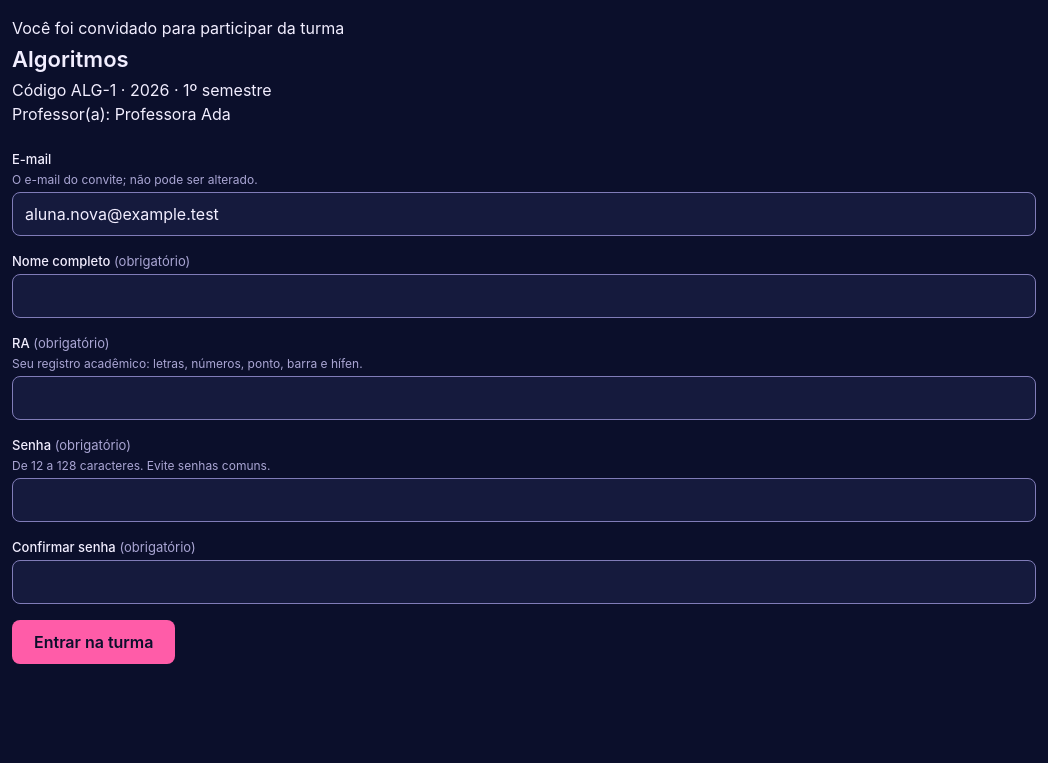
Test: 003/US3-1 003/US3-2 003/US3-4 003/US3-5 ClassInvitationPage — aluno novo (FR-030–FR-036) › RA_TAKEN aparece junto ao campo
Check: the heading "Algoritmos" is shown, box top-left (12, 46), bottom-right (129, 72)
Type "Aluna Nova" into the field labelled "Nome completo (obrigatório)" at x=524, y=296, box top-left (12, 274), bottom-right (1036, 318)
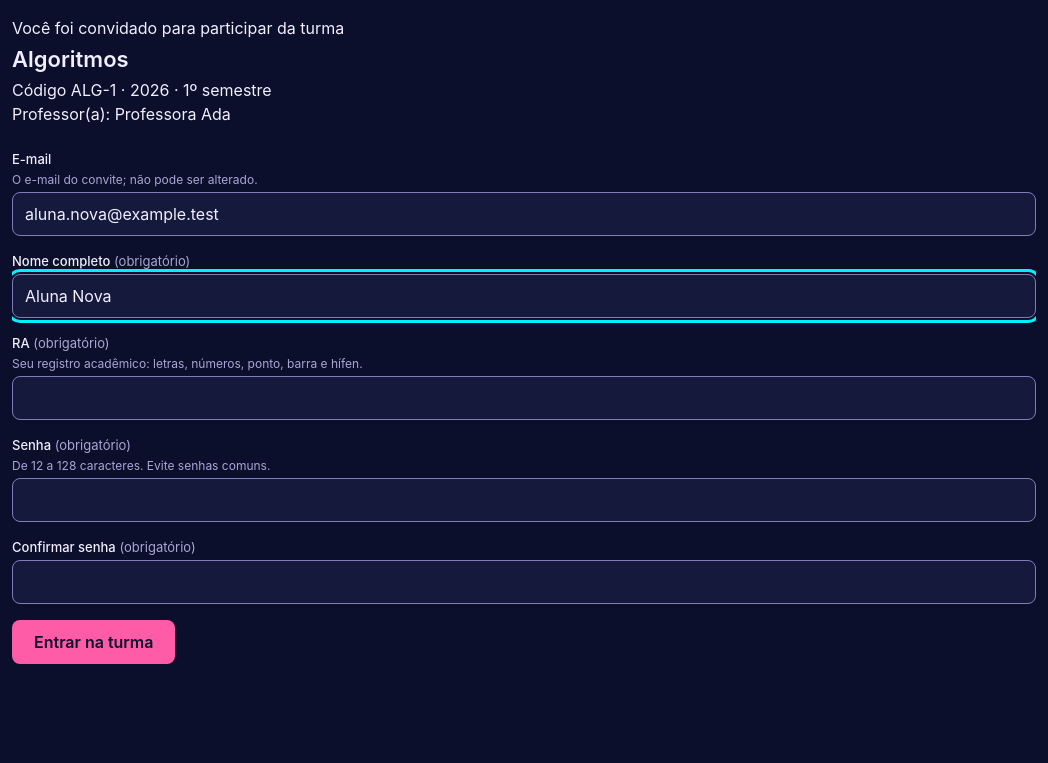
Type "RA-2026.001" into the field labelled "RA (obrigatório)" at x=524, y=398, box top-left (12, 376), bottom-right (1036, 420)
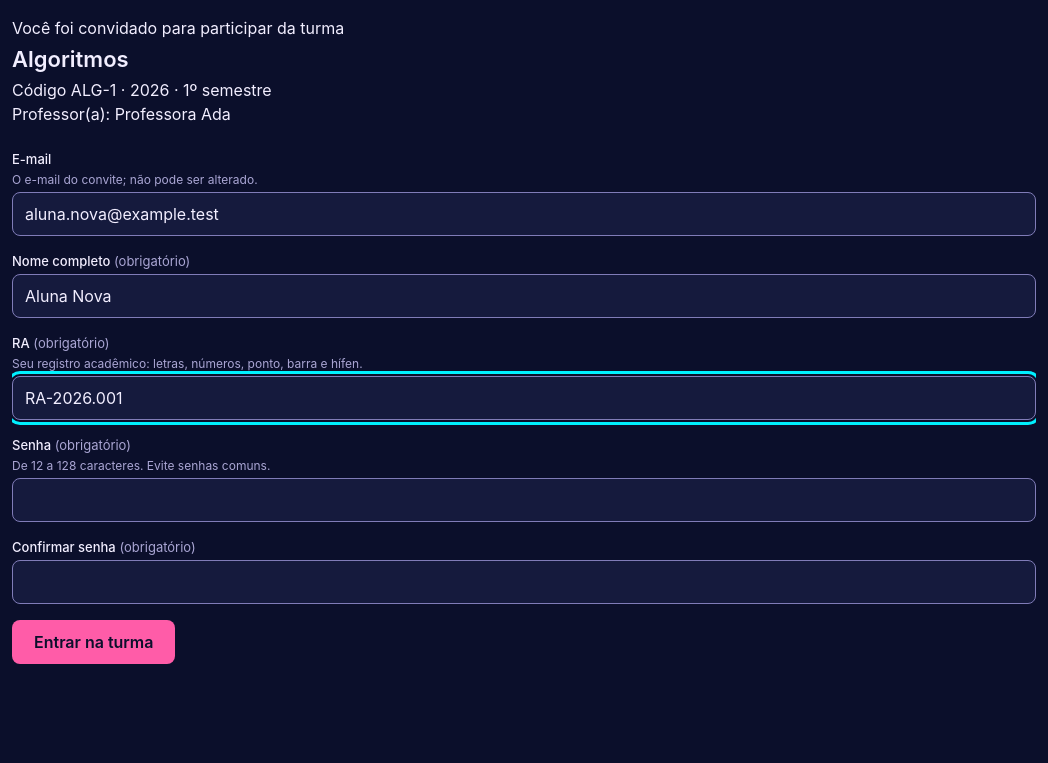
Type "girassol-azul-de-outono" into the password field labelled "Senha (obrigatório)" at x=524, y=500, box top-left (12, 478), bottom-right (1036, 522)
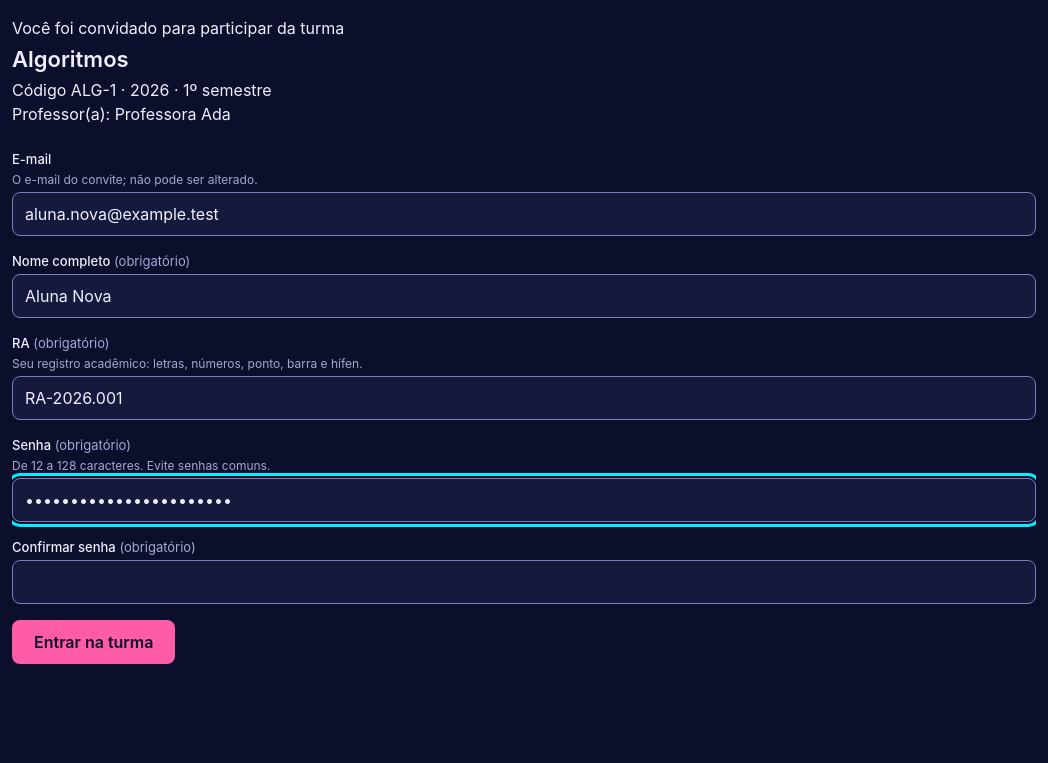
Type "girassol-azul-de-outono" into the password field labelled "Confirmar senha (obrigatório)" at x=524, y=582, box top-left (12, 560), bottom-right (1036, 604)
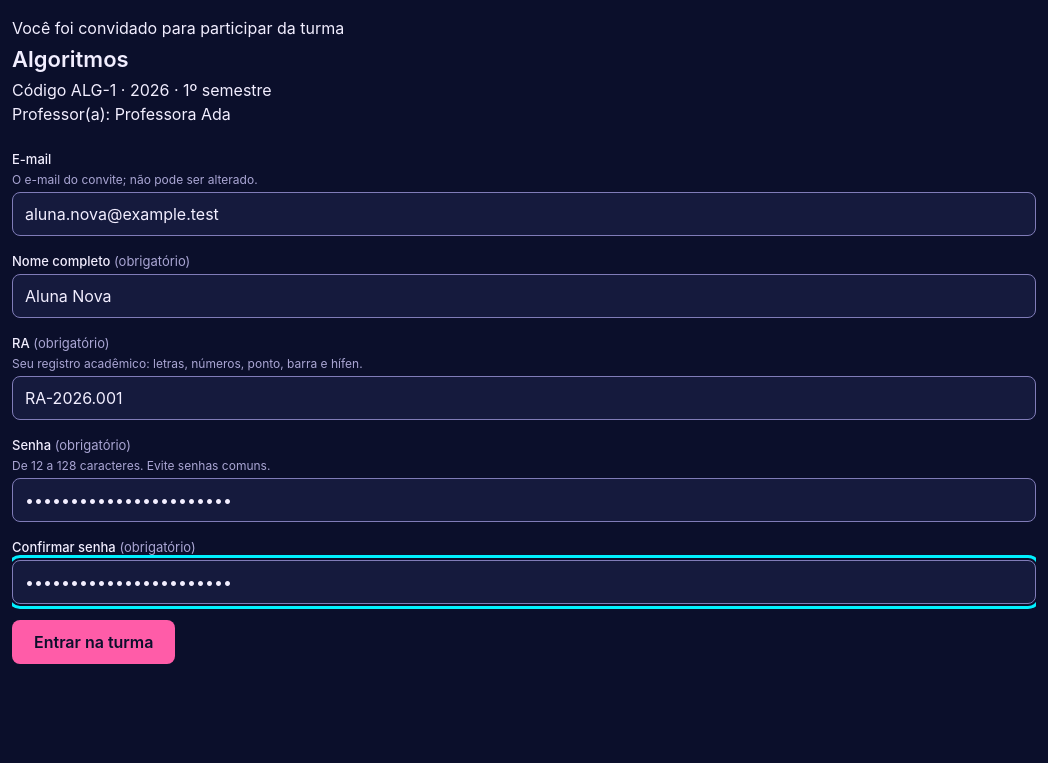
Click the button "Entrar na turma" at x=94, y=642, box top-left (12, 620), bottom-right (176, 664)
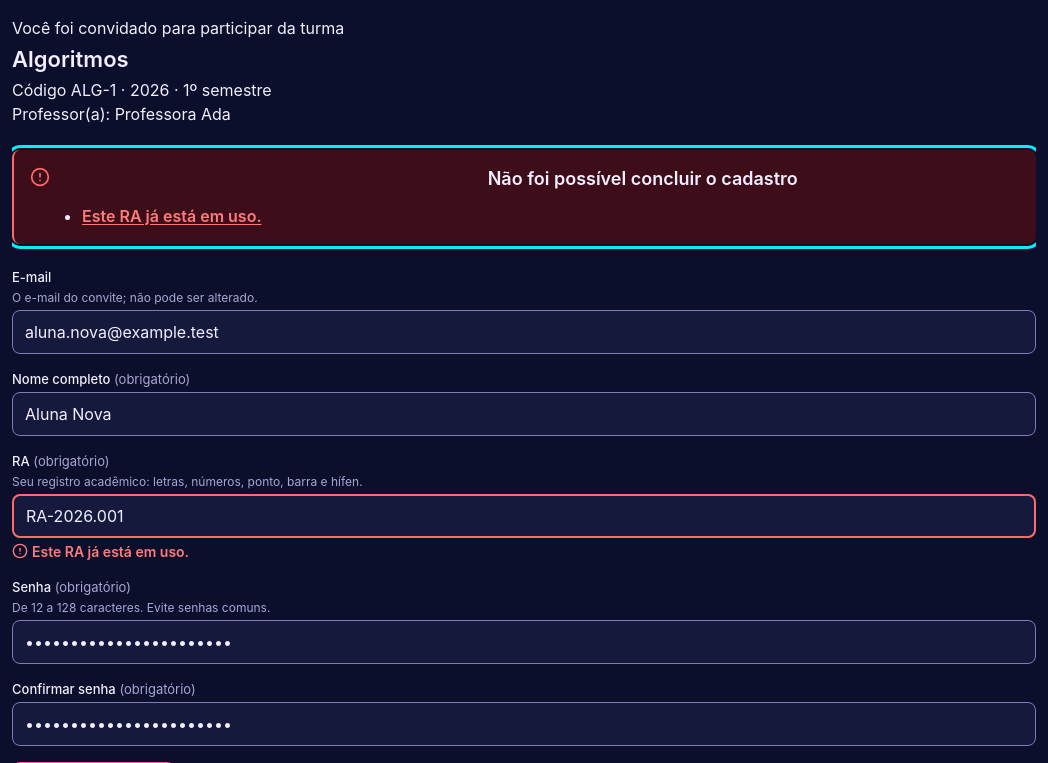
Check: the 2nd element showing "Este RA já está em uso." is shown, box top-left (12, 543), bottom-right (189, 560)
